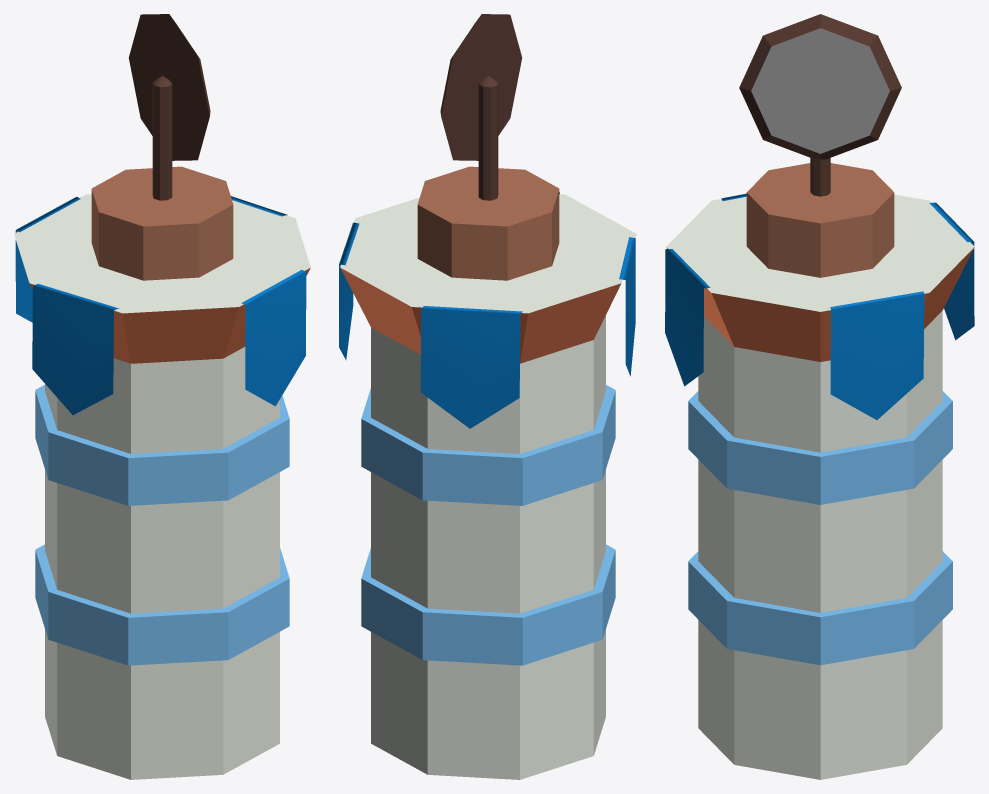
Rendered from fire_tower_destroyed.fbx.
3 views of the same model, side by side, from view 1: azimuth 30°, elevation 25°; view 2: azimuth 150°, elevation 25°; view 3: azimuth 270°, elevation 25° (orthographic).
Parts seen in each view (by area): view 1: polySurface2, polySurface1, mirror, banner3, banner, banner2; view 2: polySurface1, polySurface2, banner2, mirror, banner3, banner1; view 3: polySurface2, polySurface1, mirror, banner1, banner, banner2.
Boxes of the visible parts, x1=… form: polySurface2: x1=35, y1=417, x2=289, y2=779; polySurface1: x1=14, y1=166, x2=310, y2=495; mirror: x1=128, y1=14, x2=210, y2=200; banner3: x1=32, y1=283, x2=118, y2=414; banner: x1=241, y1=270, x2=306, y2=406; banner2: x1=15, y1=196, x2=80, y2=322; polySurface1: x1=340, y1=166, x2=636, y2=574; polySurface2: x1=361, y1=385, x2=615, y2=779; banner2: x1=420, y1=306, x2=522, y2=428; mirror: x1=440, y1=14, x2=522, y2=200; banner3: x1=619, y1=237, x2=635, y2=376; banner1: x1=339, y1=222, x2=359, y2=360; polySurface2: x1=688, y1=383, x2=952, y2=779; polySurface1: x1=666, y1=163, x2=974, y2=541; mirror: x1=739, y1=14, x2=901, y2=196; banner1: x1=830, y1=291, x2=924, y2=419; banner: x1=665, y1=249, x2=710, y2=386; banner2: x1=929, y1=202, x2=974, y2=340.
Size of the model in its own units: 3.8 by 9.73 by 3.81.
Materials: 2 (1 with a texture image).
